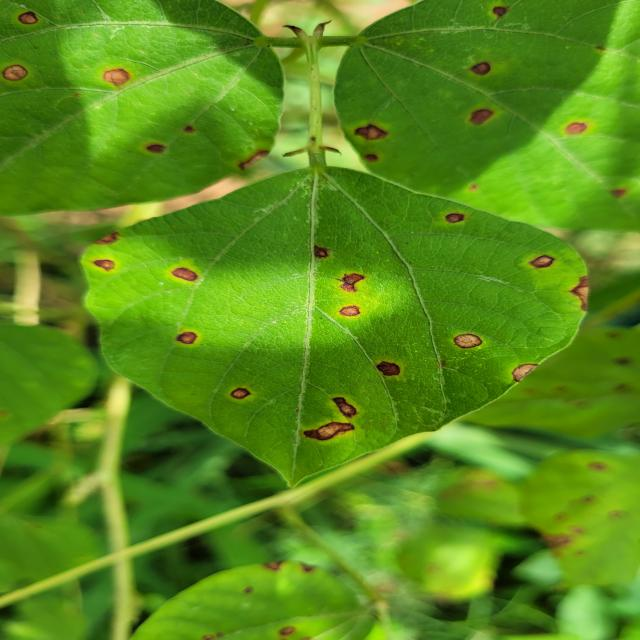Dolicos bean_cercospora leaf spot: (74, 161, 603, 496), (328, 0, 640, 233), (0, 0, 290, 227), (469, 437, 640, 591), (114, 548, 388, 640)
